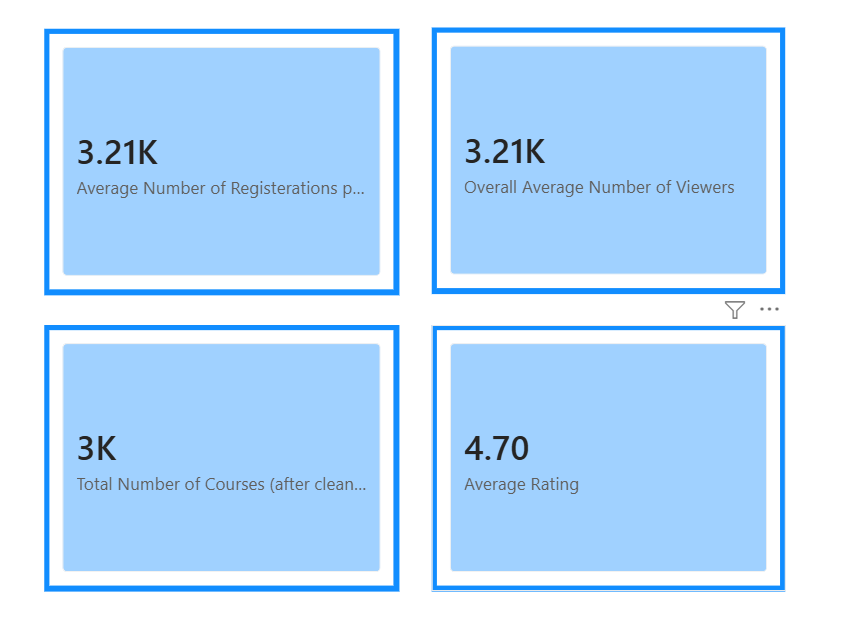

The page's visual inventory and layout, read from the dashboard file:
{"tool":"powerbi","page":{"name":"Q-1","canvas":[1280,720],"ordinal":0},"visuals":[{"type":"cardVisual","fields":{"Data":["Online_Courses.Total Number of Courses (after cleaning)"]},"box":[210.5,393,330.2,247.7],"z":0},{"type":"cardVisual","fields":{"Data":["Online_Courses.Average Rating"]},"box":[650,393,329.1,247.7],"z":1000},{"type":"cardVisual","fields":{"Data":["Online_Courses.Overall Average Number of Viewers"]},"box":[650,123.3,329.1,247.7],"z":2000},{"type":"cardVisual","fields":{"Data":["Online_Courses.Average Number of Registerations per Course"]},"box":[210.5,123.3,330.2,247.7],"z":3000}]}

Visuals, with their boxes on the page's 1280x720 design canvas (x1, y1, x2, y2). These are canvas units, not pixel positions in the 868x636 screenshot, which may show the page scaled, cropped or inside an application window:
cardVisual - Online_Courses.Total Number of Courses (after cleaning): box=[210, 393, 541, 641]
cardVisual - Online_Courses.Average Rating: box=[650, 393, 979, 641]
cardVisual - Online_Courses.Overall Average Number of Viewers: box=[650, 123, 979, 371]
cardVisual - Online_Courses.Average Number of Registerations per Course: box=[210, 123, 541, 371]
